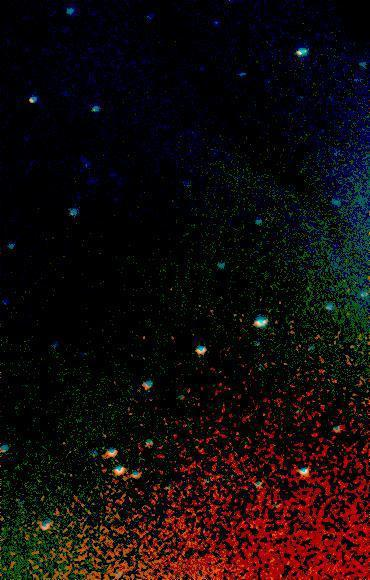star: (265, 0, 295, 26)
